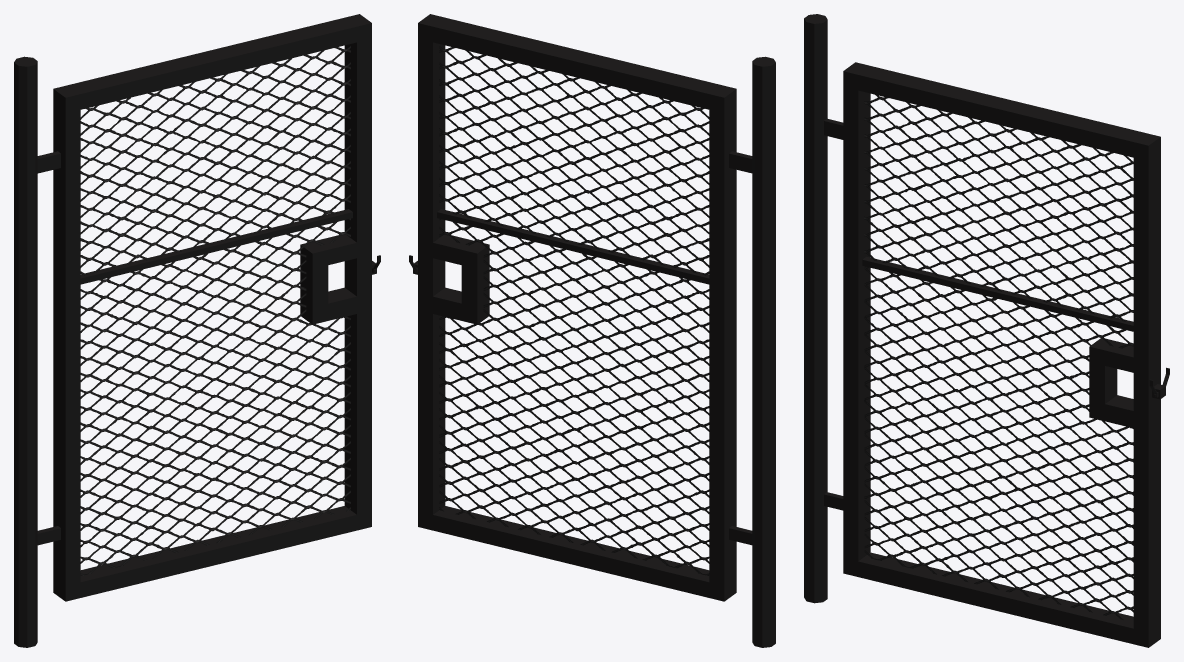
The model's file is BasketBall_Gate.fbx.
3 views of the same model, side by side, from view 1: azimuth 30°, elevation 25°; view 2: azimuth 150°, elevation 25°; view 3: azimuth 330°, elevation 25° (orthographic).
Visible parts, largest first — view 1: Gate; view 2: Gate; view 3: Gate.
Boxes of the visible parts, left/top/right/bottom form: Gate: left=14, top=14, right=380, bottom=647; Gate: left=409, top=14, right=775, bottom=647; Gate: left=804, top=14, right=1169, bottom=647.
Size of the model in its own units: 89.97 by 7.32 by 140.
